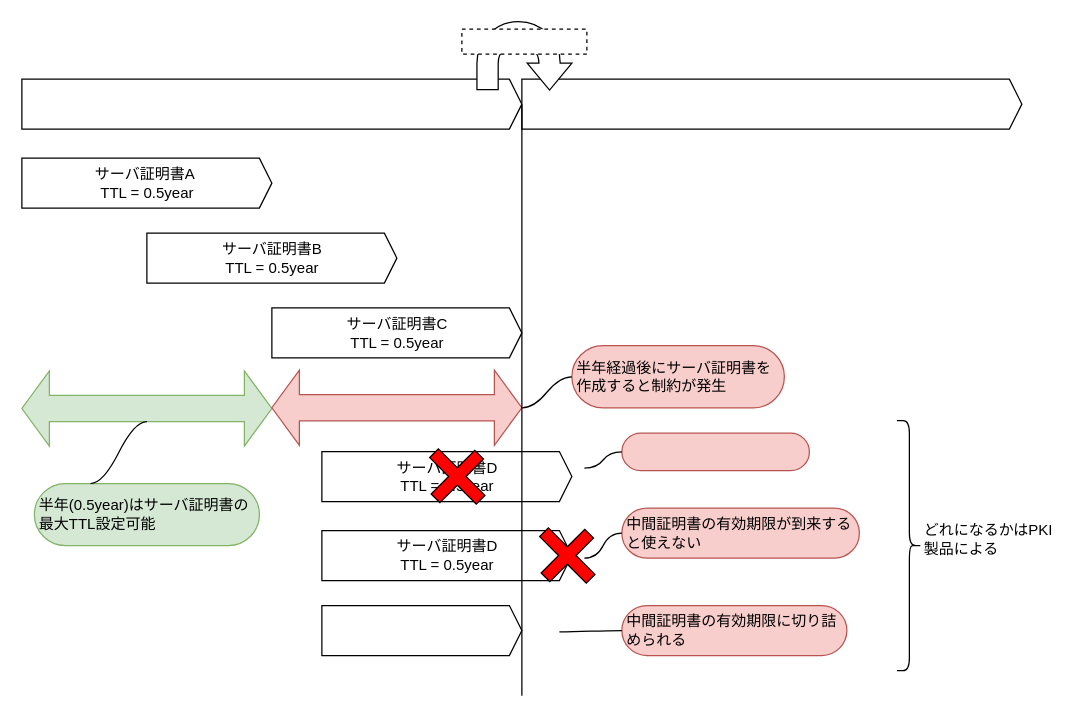
Image size: 1081x720. Some labels were removed from this diagram. Here are the shapes that lost their labels. From the top down, the centre of each, then its label:
the point at 524,41: ローテーション
the point at 271,103: 中間証明書-1 TTL = 1year
the point at 771,103: 中間CA証明書-2 TTL = 1year
the point at 715,451: そもそも作れない
the point at 421,630: サーバ証明書D TTL = 0.4year
